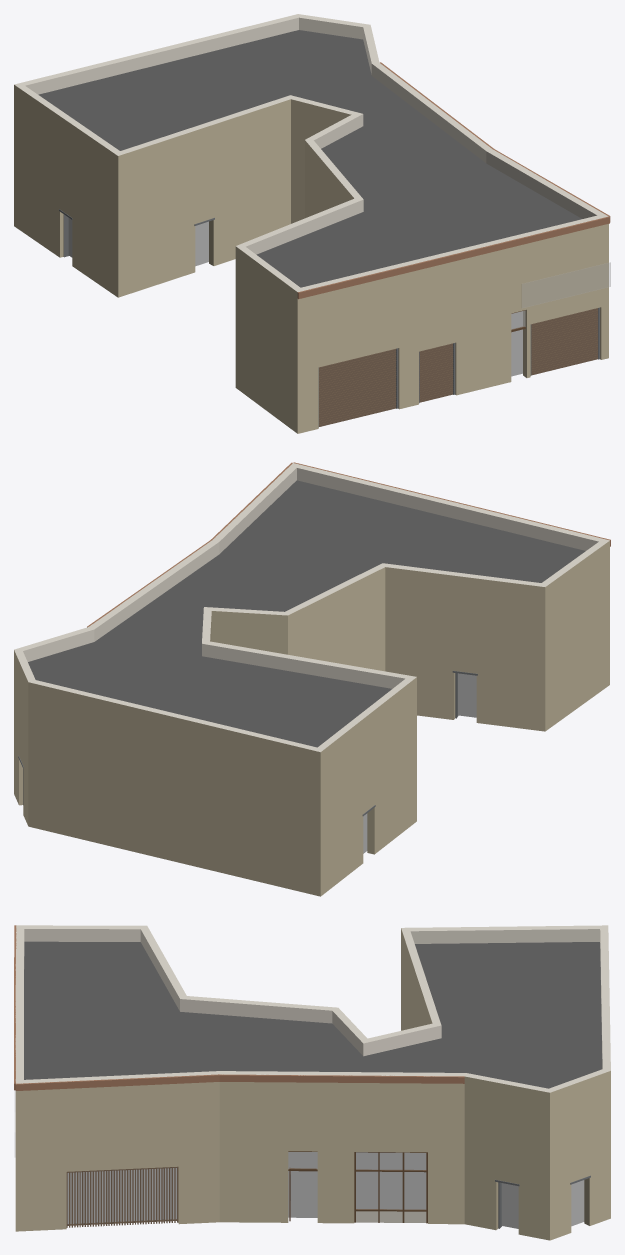
The model's file is exterior.glb.
The picture shows the model from 3 angles, top to bottom: view 1: azimuth 30°, elevation 25°; view 2: azimuth 150°, elevation 25°; view 3: azimuth 270°, elevation 25°; orthographic projection. The views are drawn at different scales.
Parts seen in each view (by area): view 1: shell, roof, storefront, relief-7, shadow-proxy, relief-6; view 2: shell, roof, shadow-proxy; view 3: shell, roof, shadow-proxy, storefront, glazing, relief-9, relief-8.
Boxes of the visible parts, x1=… form: shell: x1=14, y1=14, x2=608, y2=433; roof: x1=38, y1=30, x2=581, y2=287; storefront: x1=59, y1=209, x2=599, y2=427; relief-7: x1=413, y1=216, x2=610, y2=308; shadow-proxy: x1=68, y1=218, x2=522, y2=376; relief-6: x1=297, y1=264, x2=413, y2=299; shell: x1=14, y1=463, x2=609, y2=896; roof: x1=28, y1=480, x2=585, y2=747; shadow-proxy: x1=363, y1=673, x2=476, y2=853; shell: x1=15, y1=925, x2=610, y2=1240; roof: x1=24, y1=941, x2=602, y2=1088; shadow-proxy: x1=67, y1=1152, x2=584, y2=1228; storefront: x1=66, y1=1151, x2=590, y2=1228; glazing: x1=288, y1=1152, x2=426, y2=1209; relief-9: x1=219, y1=1074, x2=464, y2=1083; relief-8: x1=15, y1=1074, x2=219, y2=1090.
Bounding box in the file's own units: 16.25 × 6.69 × 24.49.
